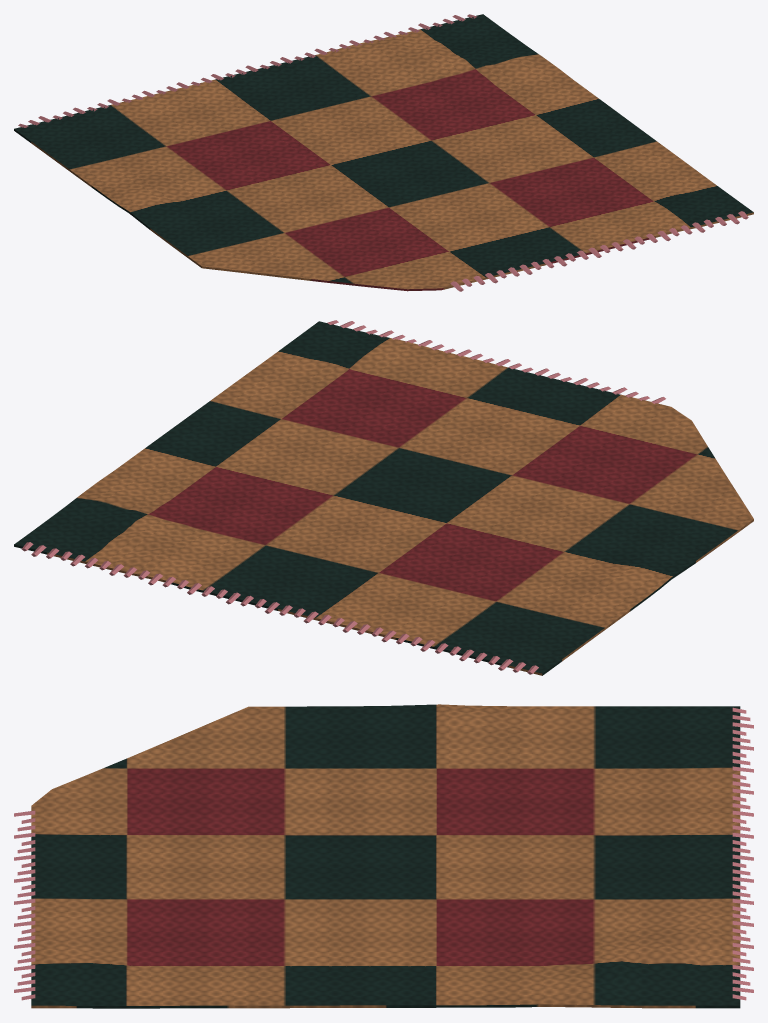
File: picnic_blanket.glb
3 renders of one model, top to bottom at view 1: azimuth 30°, elevation 25°; view 2: azimuth 150°, elevation 25°; view 3: azimuth 270°, elevation 25°, orthographic. The views are drawn at different scales.
Parts seen in each view (by area): view 1: picnic-blanket_body; view 2: picnic-blanket_body; view 3: picnic-blanket_body.
Boxes of the visible parts, x1,y1,x2,y2 form: picnic-blanket_body: (14, 14, 753, 291); picnic-blanket_body: (14, 320, 753, 675); picnic-blanket_body: (14, 704, 753, 1008).
Bounding box in the file's own units: 1.5 × 0.0202 × 1.57.
Materials: 2 (1 with a texture image).
